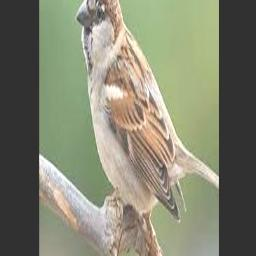Sparrow: (76, 0, 219, 224)
